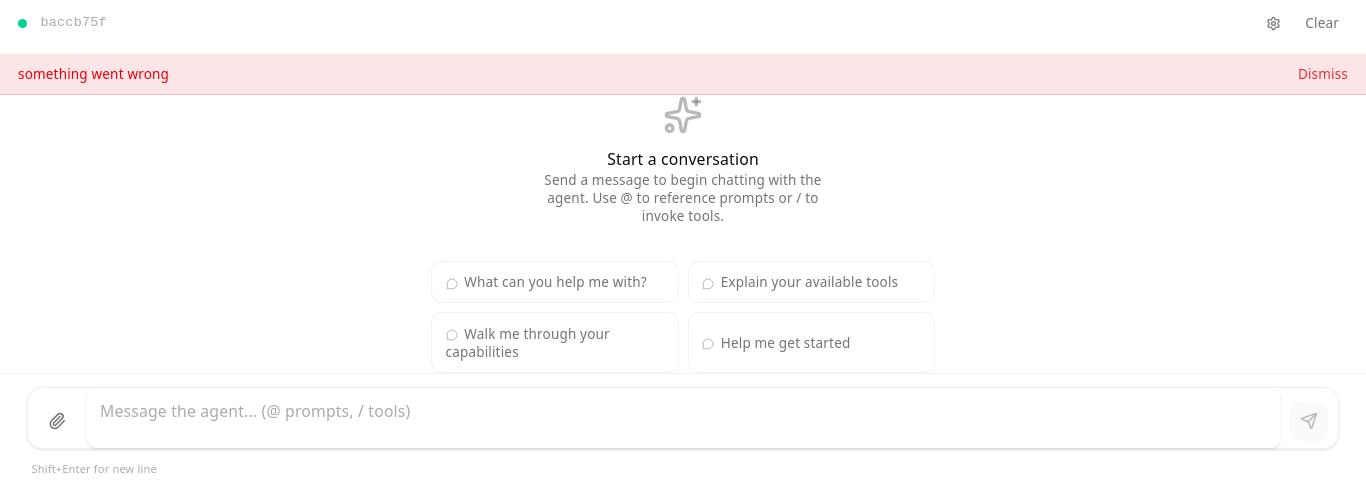
Test case: ChatPanel › ErrorBanner › dismiss button clears the error
Expected: the text "something went wrong" is shown, [18,65,169,83]
Click the button "Dismiss": (1323, 74) [1298,65,1348,83]
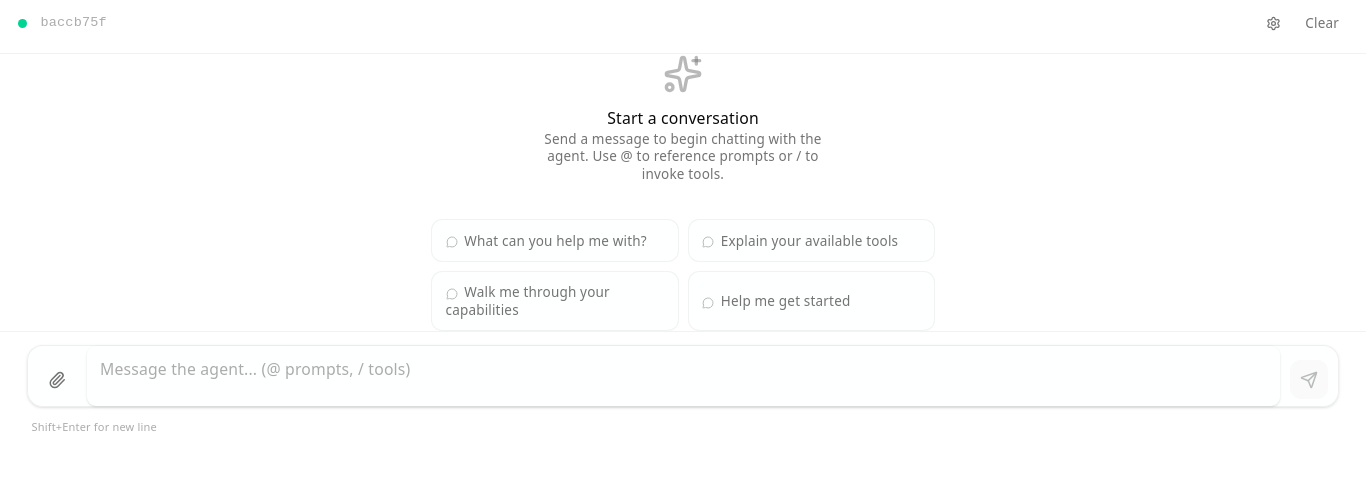
Result: the text "something went wrong" is gone
